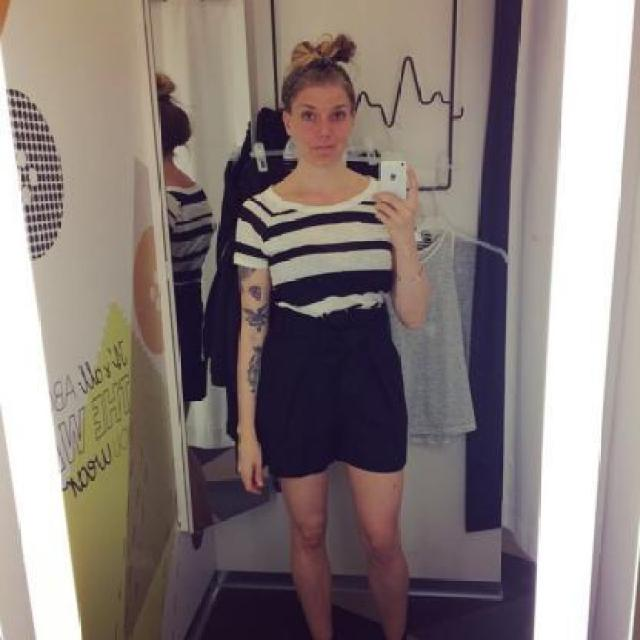Person: (237, 31, 431, 638)
